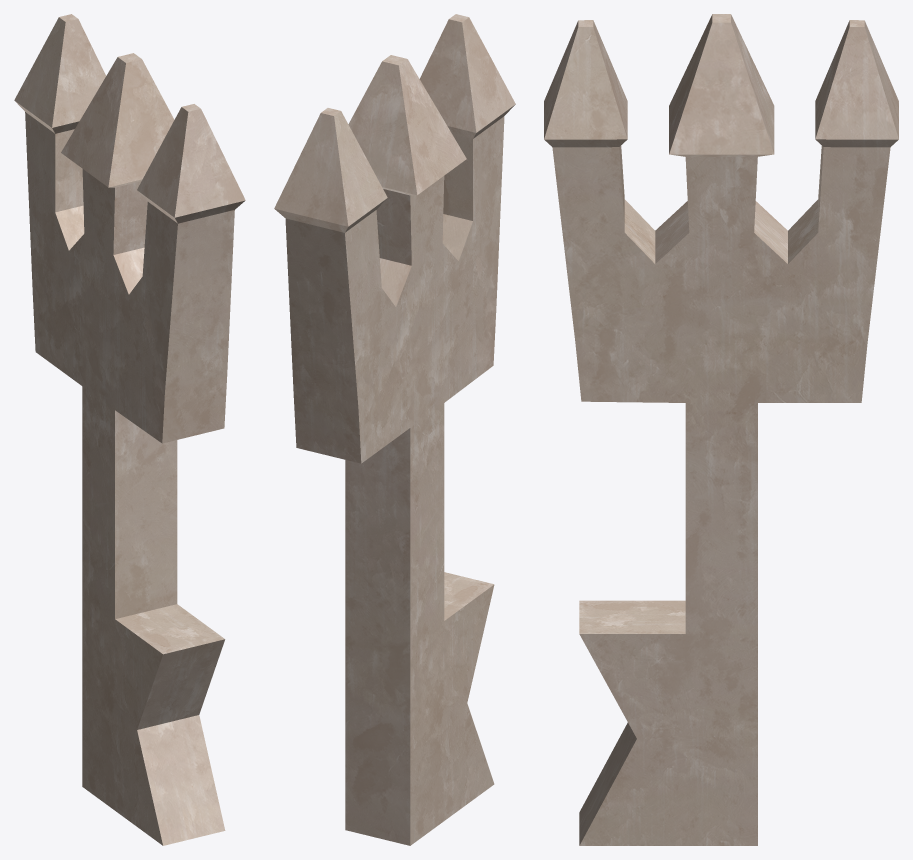
The model's file is crownkey.glb.
3 renders of one model, left to right at view 1: azimuth 30°, elevation 25°; view 2: azimuth 150°, elevation 25°; view 3: azimuth 270°, elevation 25°, orthographic. The views are drawn at different scales.
Visible parts, largest first — view 1: Crown Key; view 2: Crown Key; view 3: Crown Key.
Boxes of the visible parts, x1=… form: Crown Key: x1=14, y1=14, x2=245, y2=845; Crown Key: x1=274, y1=14, x2=515, y2=845; Crown Key: x1=544, y1=14, x2=898, y2=845.
Size of the model in its own units: 0.248 by 1.92 by 0.7619.
1 material, 1 textured.
